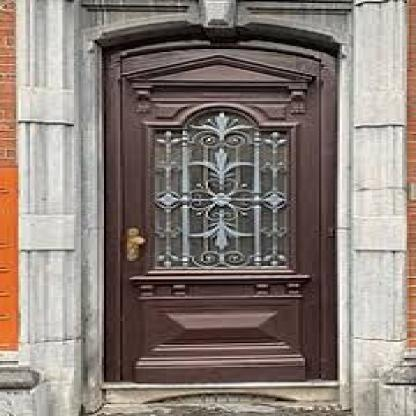door: (93, 46, 331, 376)
